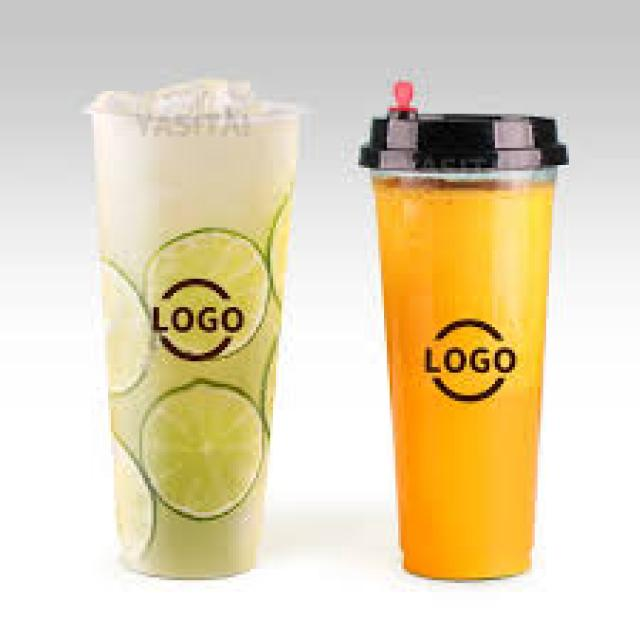bottle: (91, 79, 298, 577), (360, 110, 566, 578)
